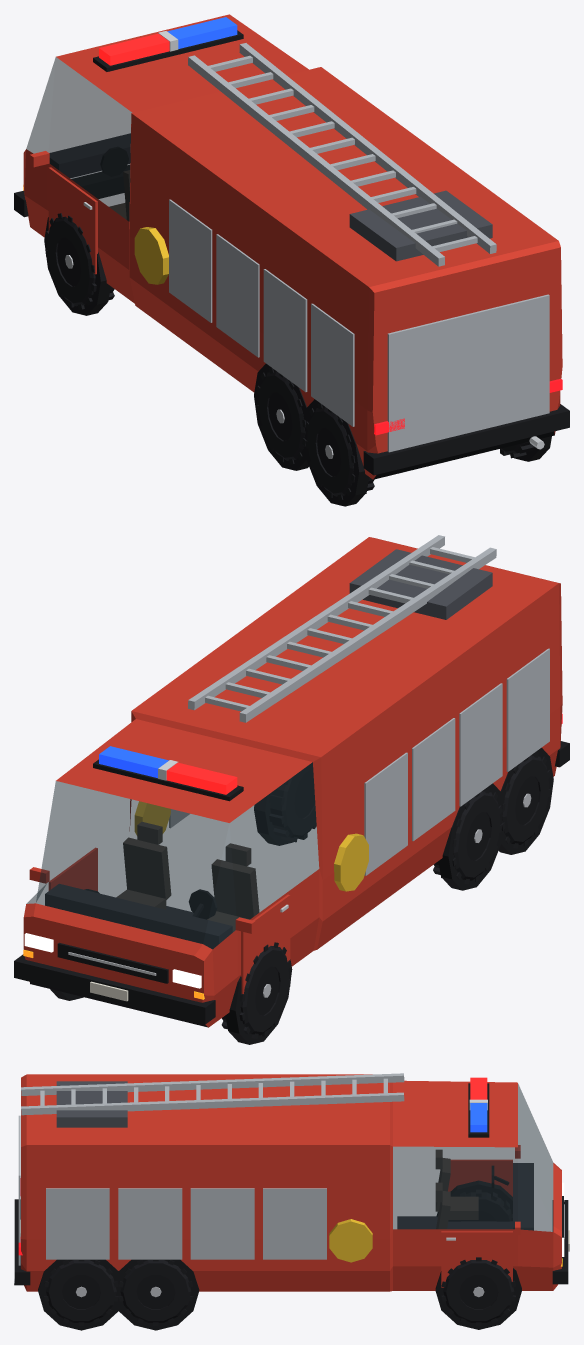
File: firetruck.glb
The picture shows the model from 3 angles, top to bottom: view 1: azimuth 30°, elevation 25°; view 2: azimuth 150°, elevation 25°; view 3: azimuth 270°, elevation 25°; orthographic projection. The views are drawn at different scales.
Parts seen in each view (by area): view 1: firetruck, firetruck_wheel_fl, firetruck_wheel_x0l, firetruck_wheel_rl, firetruck_door_fl; view 2: firetruck, firetruck_wheel_fl, firetruck_wheel_rl, firetruck_wheel_x0l, firetruck_wheel_rr, firetruck_door_fl, firetruck_door_fr; view 3: firetruck, firetruck_wheel_fr, firetruck_wheel_x0r, firetruck_wheel_rr, firetruck_door_fr, firetruck_door_fl, firetruck_wheel_fl.
Part boxes in pixels (<box>): firetruck: <box>14,14,569,506</box>; firetruck_wheel_fl: <box>45,213,114,309</box>; firetruck_wheel_x0l: <box>305,403,374,500</box>; firetruck_wheel_rl: <box>256,368,306,464</box>; firetruck_door_fl: <box>48,167,97,274</box>; firetruck: <box>14,535,569,1044</box>; firetruck_wheel_fl: <box>221,942,290,1038</box>; firetruck_wheel_rl: <box>433,788,502,884</box>; firetruck_wheel_x0l: <box>501,752,550,848</box>; firetruck_wheel_rr: <box>269,762,316,842</box>; firetruck_door_fl: <box>241,894,290,993</box>; firetruck_door_fr: <box>48,847,97,891</box>; firetruck: <box>14,1073,569,1330</box>; firetruck_wheel_fr: <box>441,1257,515,1325</box>; firetruck_wheel_x0r: <box>44,1259,118,1325</box>; firetruck_wheel_rr: <box>118,1259,193,1325</box>; firetruck_door_fr: <box>441,1231,512,1287</box>; firetruck_door_fl: <box>448,1159,512,1196</box>; firetruck_wheel_fl: <box>448,1189,512,1221</box>.
Bounding box in the file's own units: 2.76 × 3.27 × 7.84.
